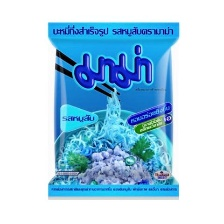snack: (35, 15, 186, 206)
